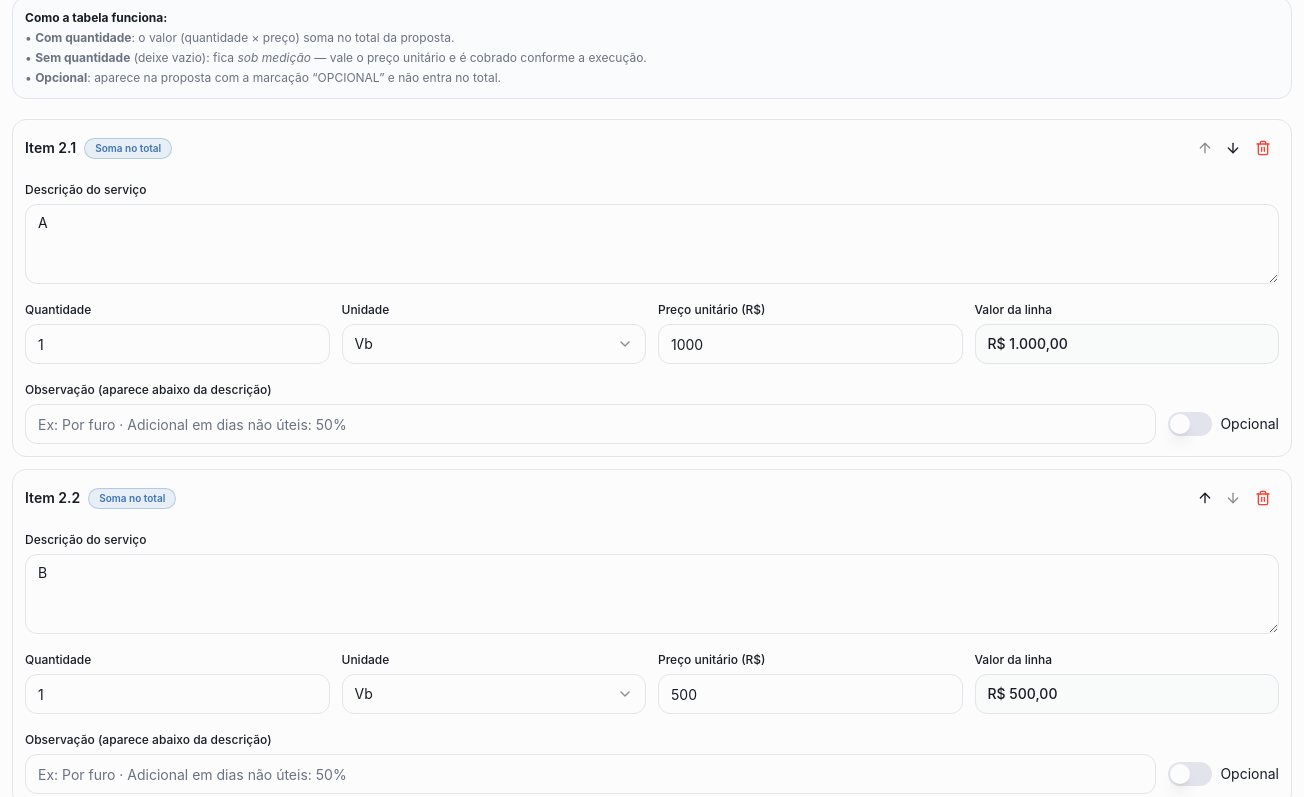
Scenario: etapa de preços › opcional não entra no total
Click the switch below "R$ 500,00" at {"x": 1190, "y": 774}, box [1168,762,1212,786]
(page scrolled)
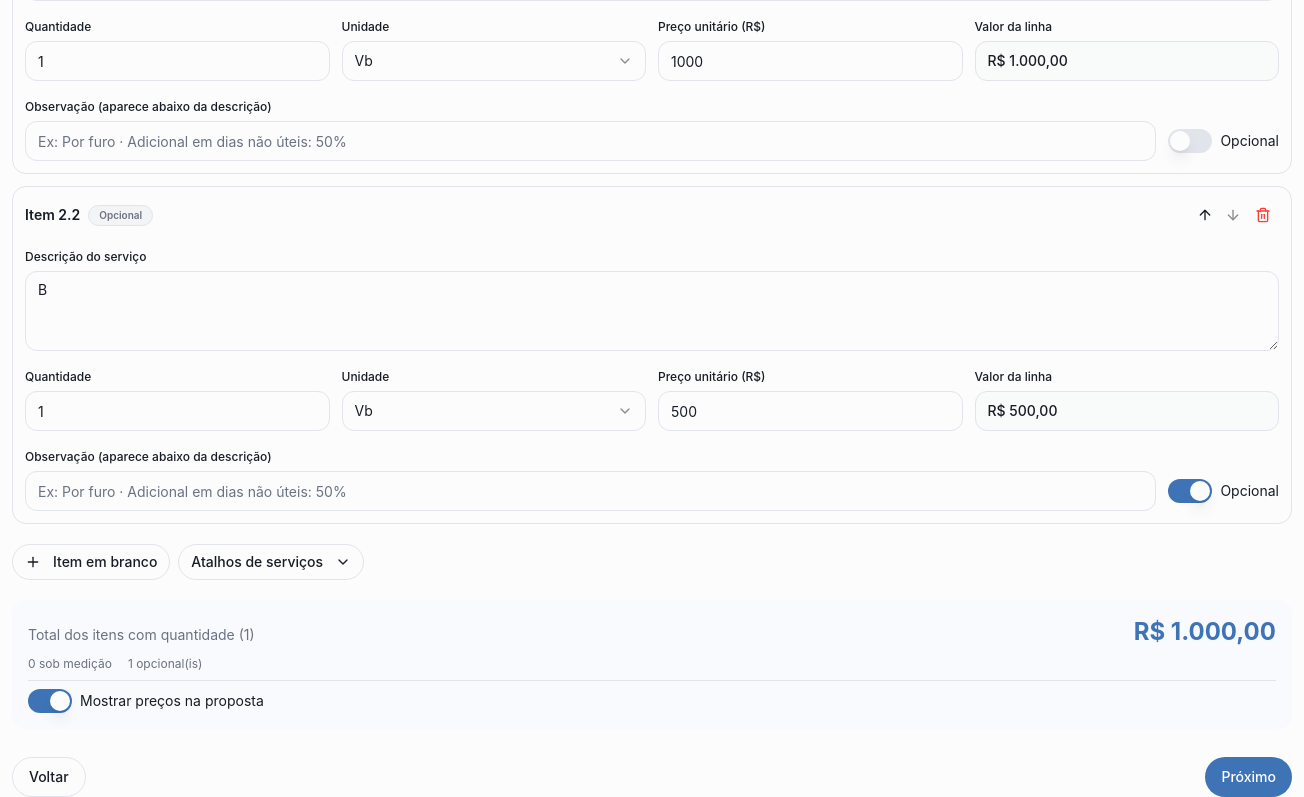
expect the text "Total dos itens com quantidade (1)" is shown: met, box [28,625,255,645]
expect the text "1 opcional(is)" is shown: met, box [128,656,202,672]
